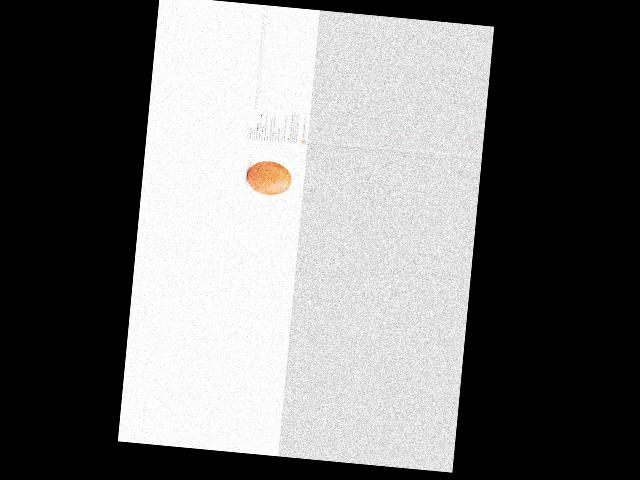egg: (245, 159, 292, 197)
